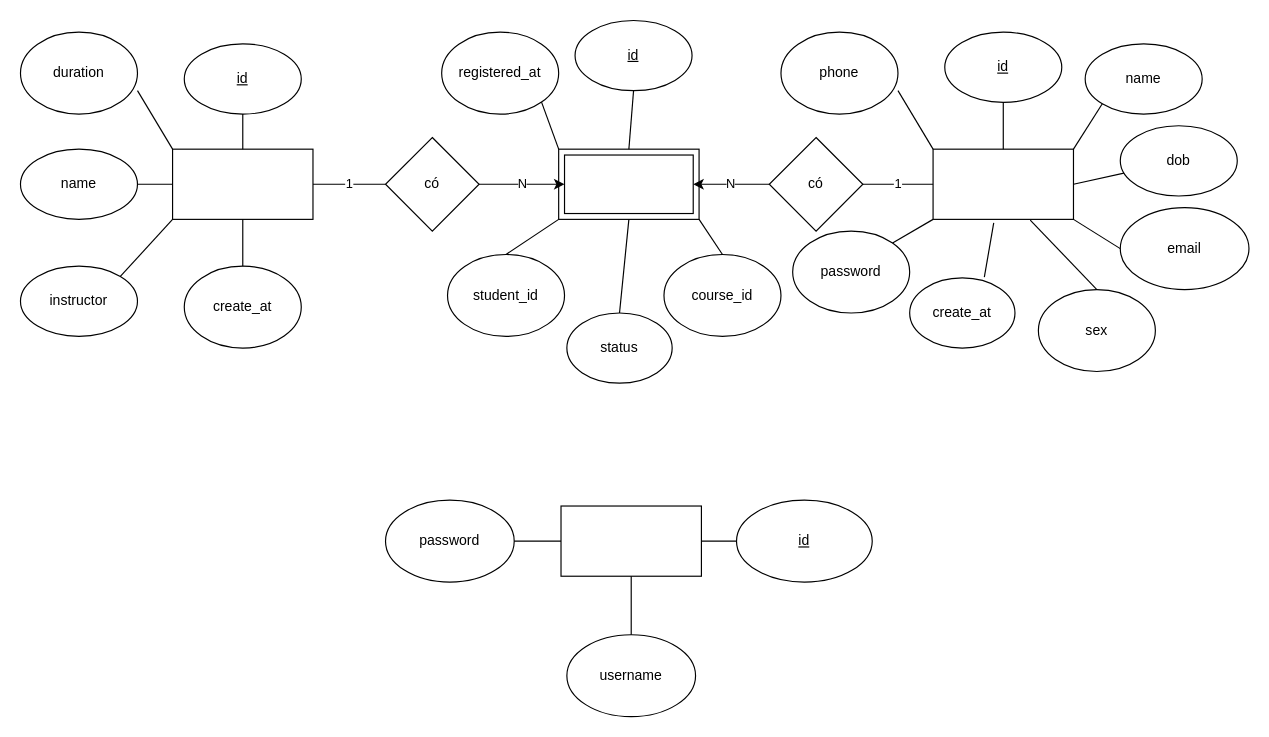
Image size: 1269x737. Some labels were removed from this diagram. The shapes that lost their labels are listed below. From the top down, each one's box as (x1, y1, x2, y2) in pixels, then its label:
(171, 148, 313, 219): course
(563, 154, 693, 214): enrollment
(932, 148, 1073, 219): student
(560, 505, 701, 576): admin
